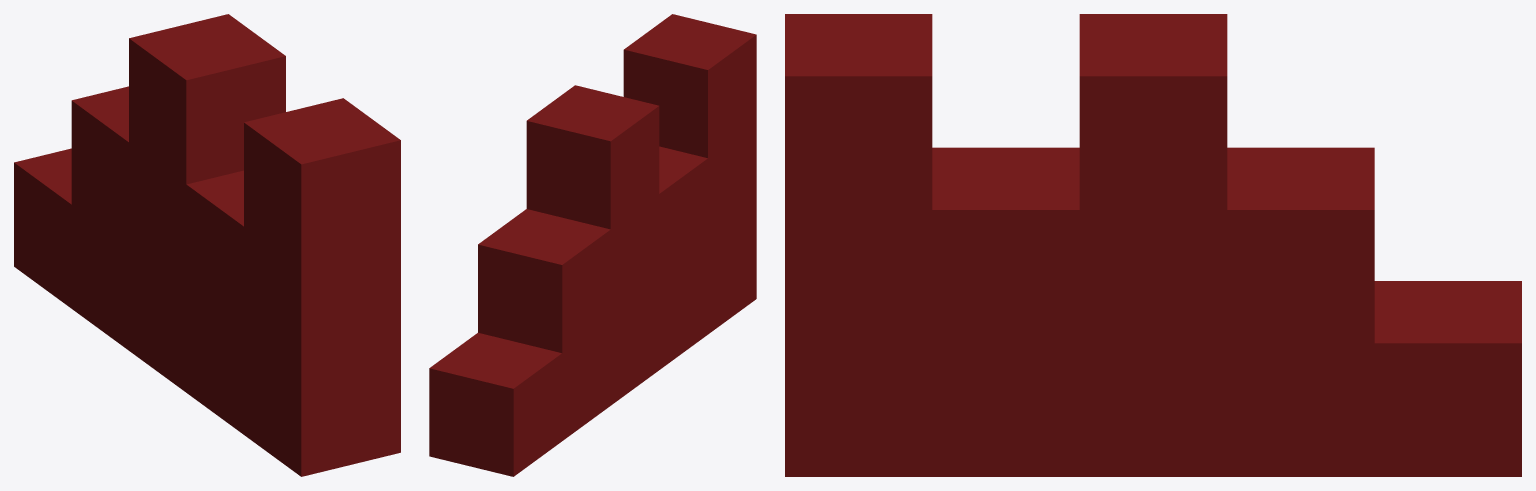
File: YellowHouseParts-59.obj
The picture shows the model from 3 angles, left to right: view 1: azimuth 30°, elevation 25°; view 2: azimuth 150°, elevation 25°; view 3: azimuth 270°, elevation 25°; orthographic projection. The views are drawn at different scales.
Bounding box in the file's own units: 0.1 × 0.3 × 0.5.
1 material, 1 textured.
